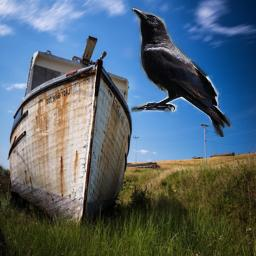Crow: (131, 7, 231, 137)
